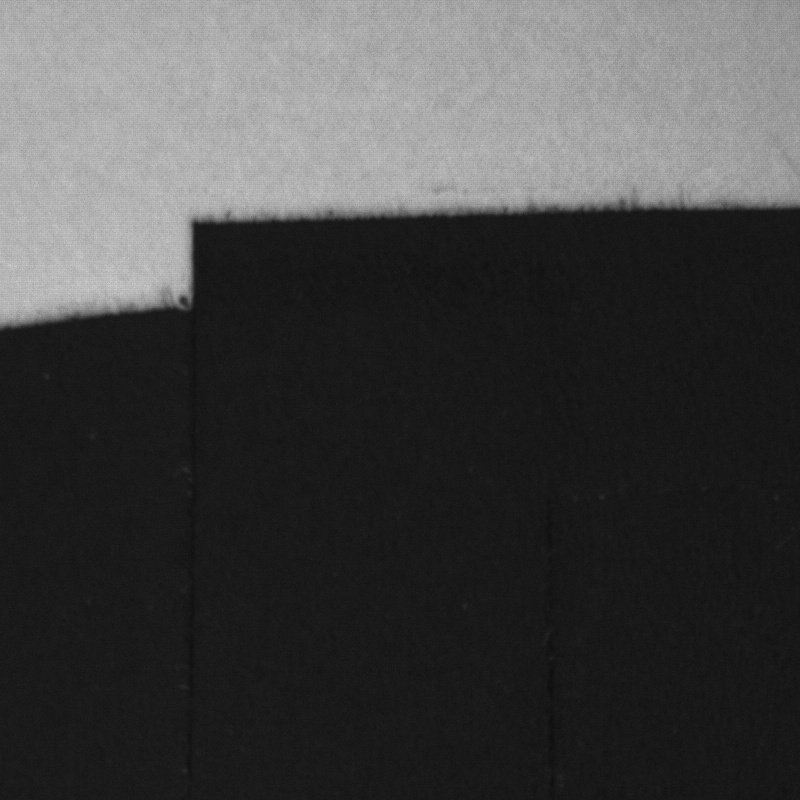defect: (781, 142, 800, 190)
